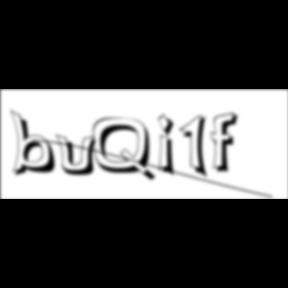1: (180, 114, 214, 182)
Q: (93, 117, 159, 184)
b: (10, 109, 64, 179)
f: (212, 111, 244, 175)
i: (158, 112, 182, 180)
u: (55, 132, 103, 178)
